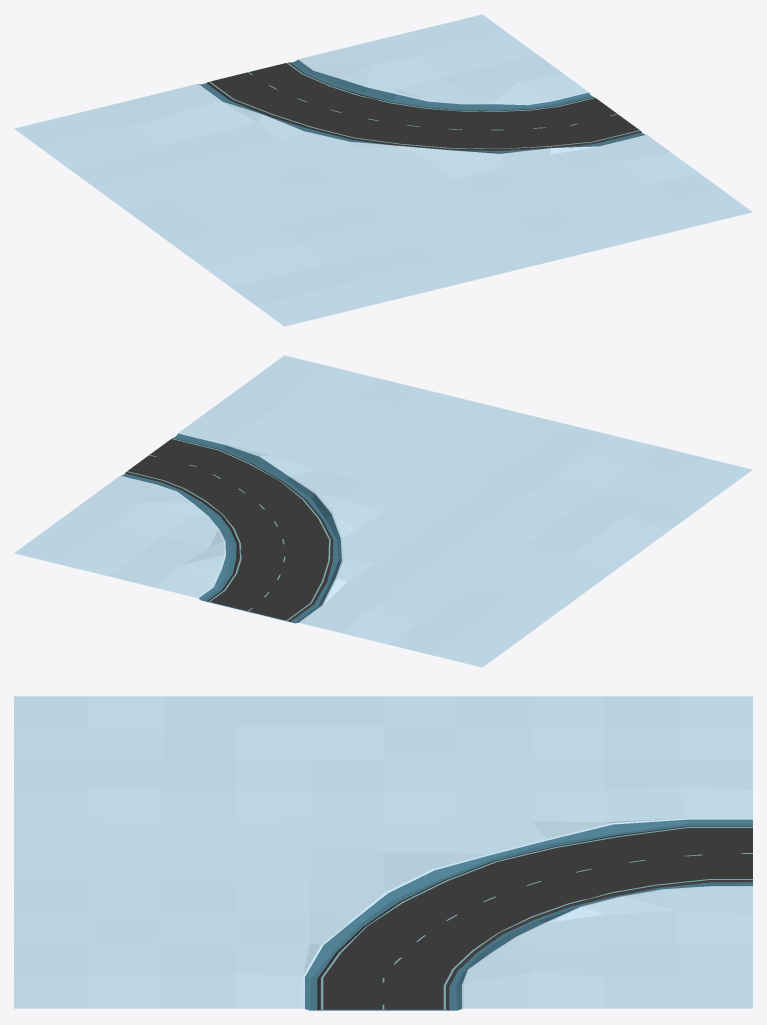
File: model_road_snow_cornor_1.fbx
The picture shows the model from 3 angles, top to bottom: view 1: azimuth 30°, elevation 25°; view 2: azimuth 150°, elevation 25°; view 3: azimuth 270°, elevation 25°; orthographic projection. The views are drawn at different scales.
Parts seen in each view (by area): view 1: model_road_snow_cornor_1; view 2: model_road_snow_cornor_1; view 3: model_road_snow_cornor_1.
Part boxes in pixels (bbox=[...]): model_road_snow_cornor_1: bbox=[14, 14, 752, 326]; model_road_snow_cornor_1: bbox=[14, 355, 752, 667]; model_road_snow_cornor_1: bbox=[14, 696, 752, 1010].
Size of the model in its own units: 6162 by 62.78 by 6162.
1 material, 1 textured.
